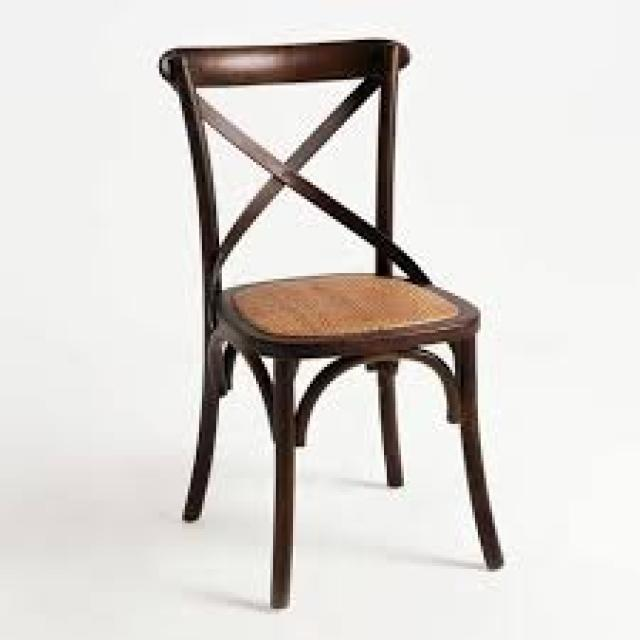bottle: (157, 33, 506, 613)
